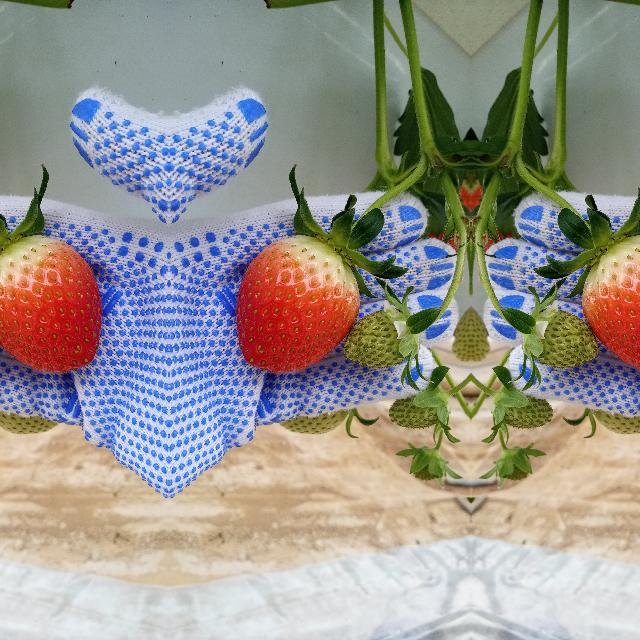Health_100: (234, 235, 360, 372), (0, 235, 102, 372), (580, 235, 640, 372)
Health_25: (342, 308, 412, 382), (529, 308, 599, 382)
